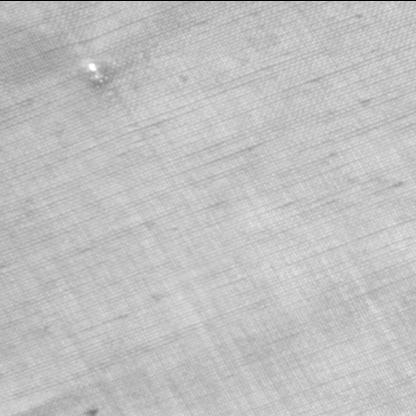hole: (82, 60, 113, 84)
